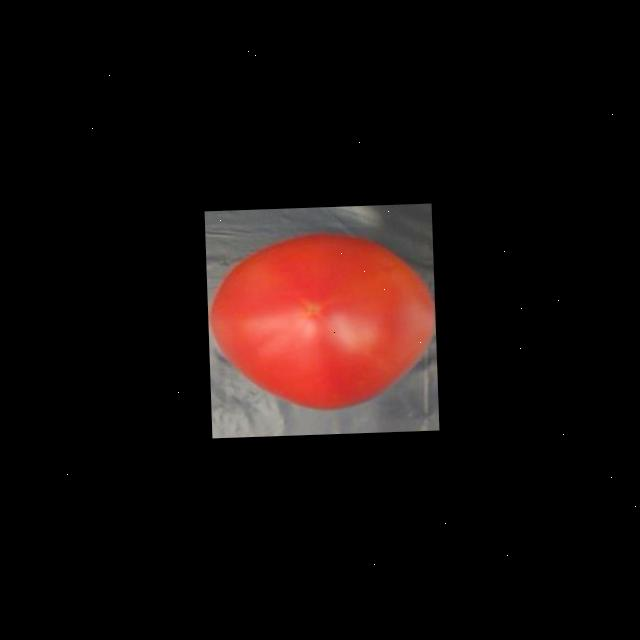tomato: (204, 224, 436, 422)
